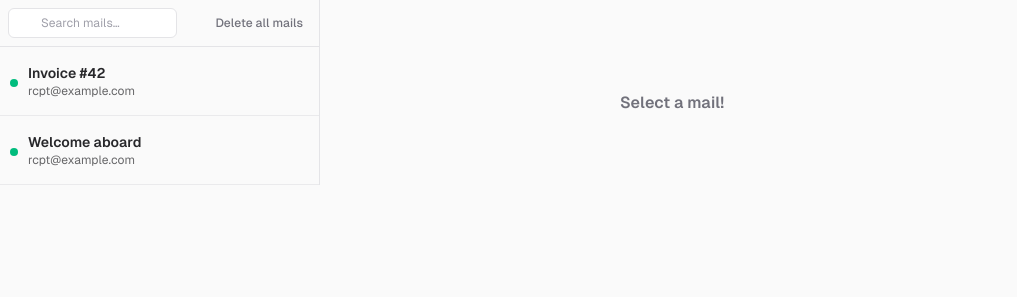
it: Mailbox screen › selecting a mail opens the detail pane
Click the element with class "select-none" showing "Invoice #42 rcpt@example.com" at (160, 82), box [0,47,319,116]
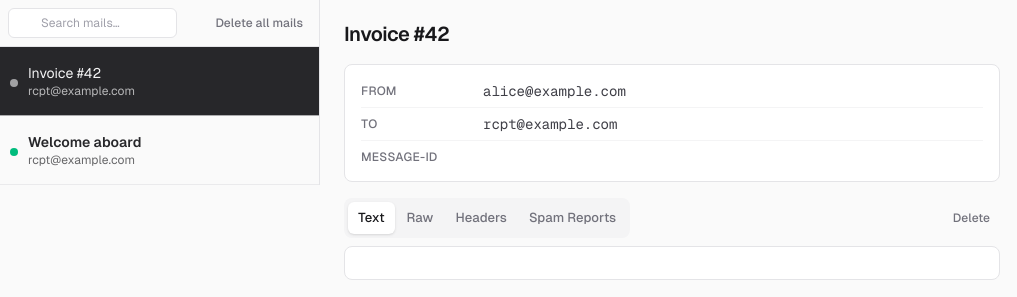
Expected: the text "alice@example.com" is shown, [483,83,626,99]
